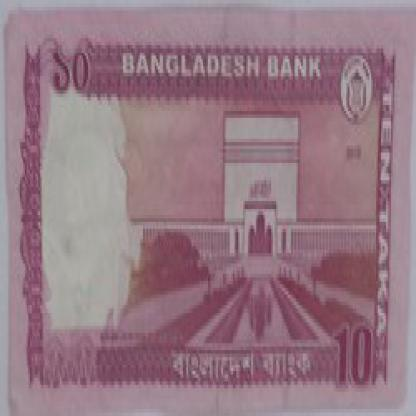Ten Taka: (47, 24, 93, 108)
